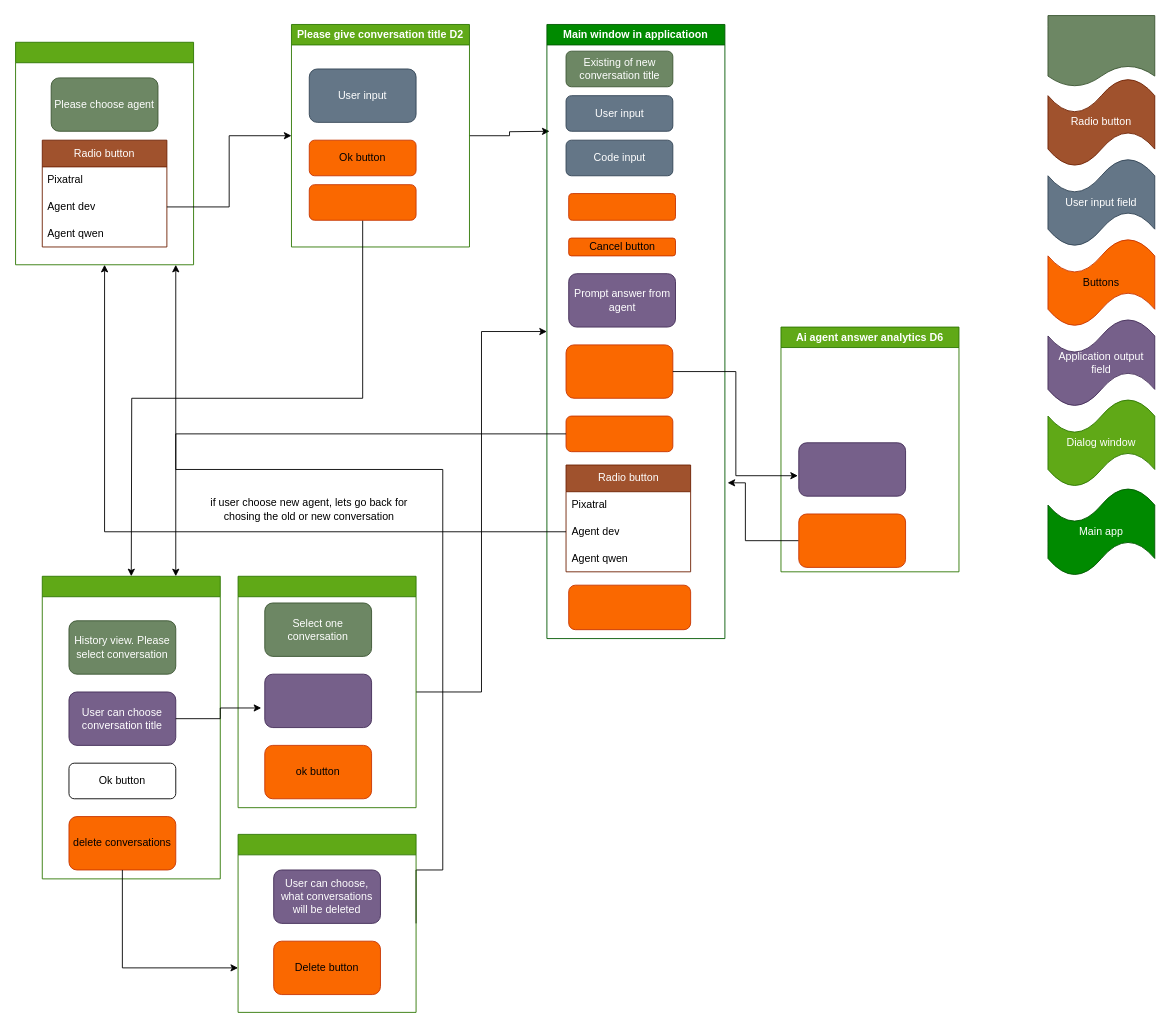
This 1170x1028 diagram has some shape labels left out. Each missing label, with the box of its shape:
Analytics data: (565, 344, 673, 398)
application startuo D1: (15, 41, 194, 265)
back button: (798, 513, 906, 567)
Choose to continue conversation: (308, 184, 416, 220)
Delete conversation D5: (237, 833, 416, 1012)
exit button: (568, 584, 691, 630)
History button: (565, 415, 673, 452)
History window D3: (41, 575, 220, 879)
In this view user can choose, what conversation hi will continue: (264, 673, 372, 728)
Select conversation D4: (237, 575, 416, 808)
send prompt to agent: (568, 193, 676, 220)
Text window: (1047, 15, 1155, 87)
View analytics: (798, 442, 906, 496)
